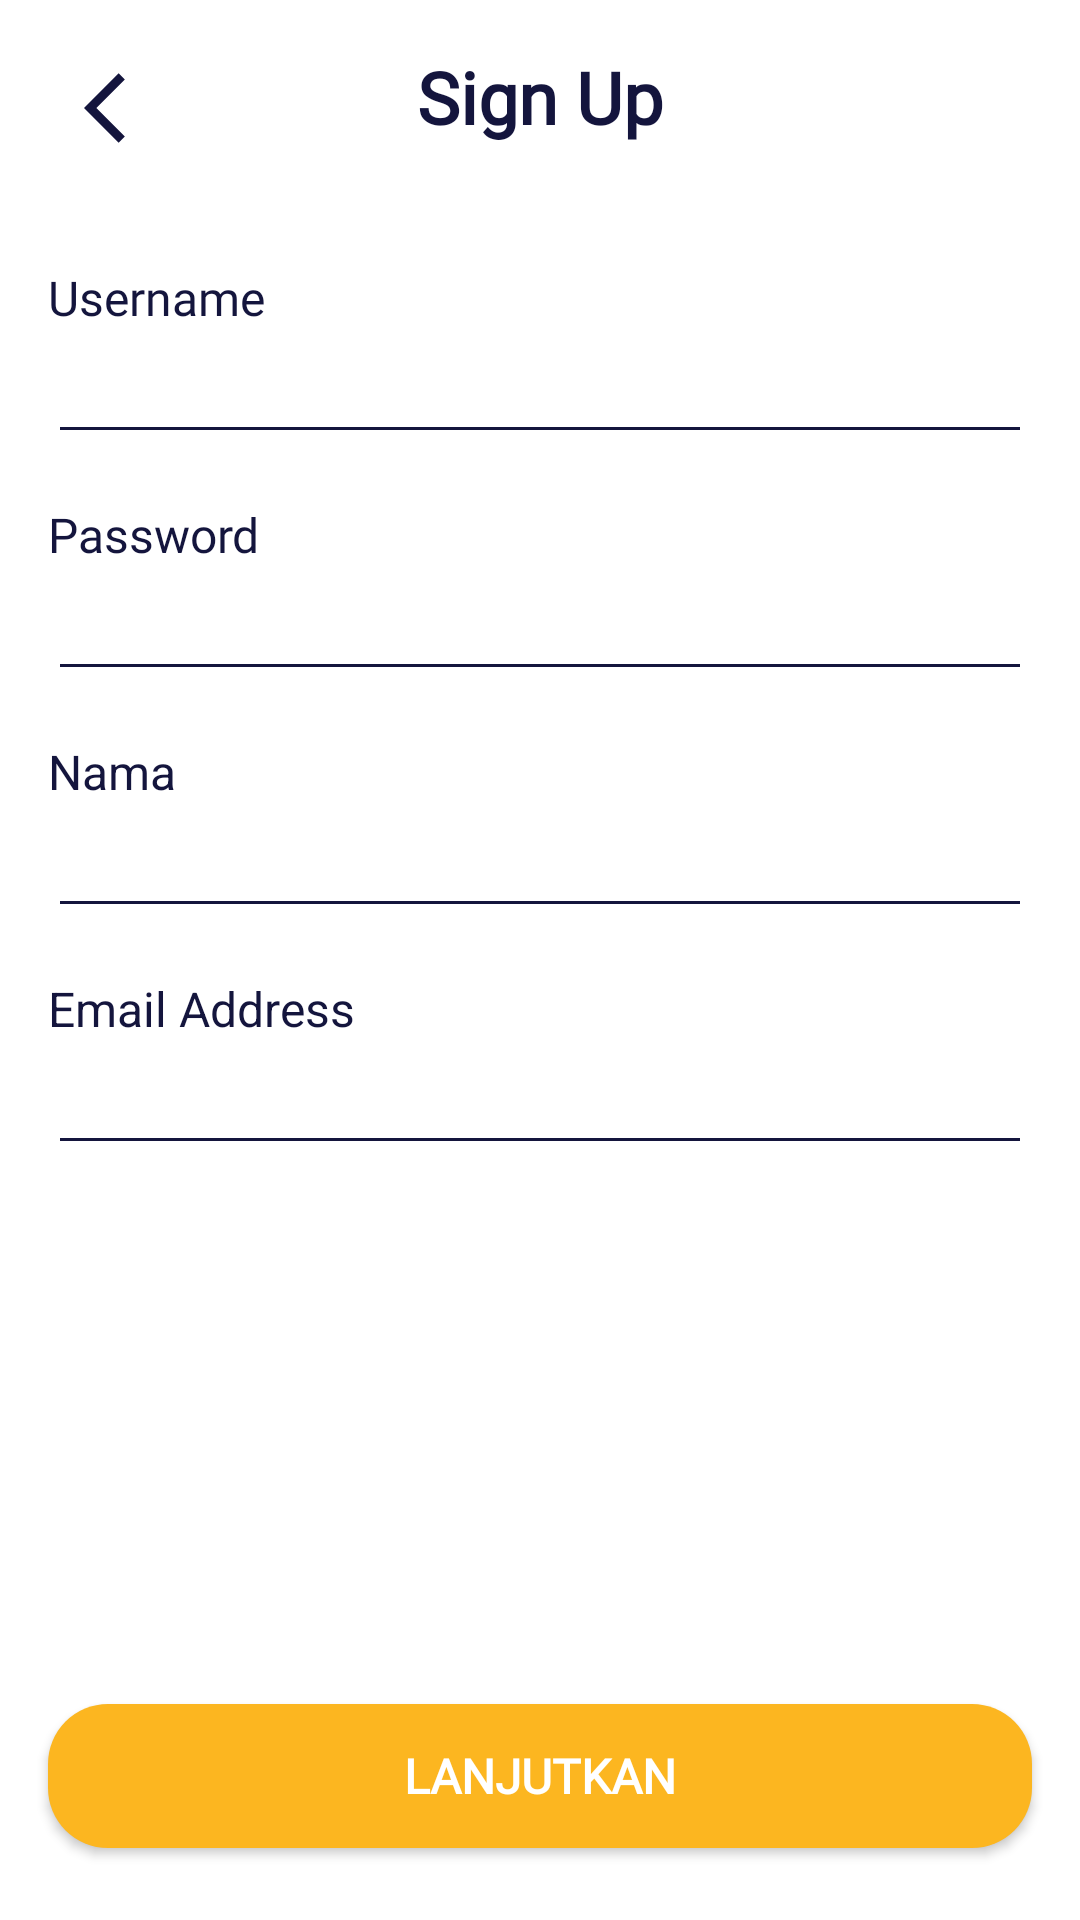

Screen size 1080 x 1920. Icon name, then its center in pixels as point (x, y):
arrow back: point (104, 108)
